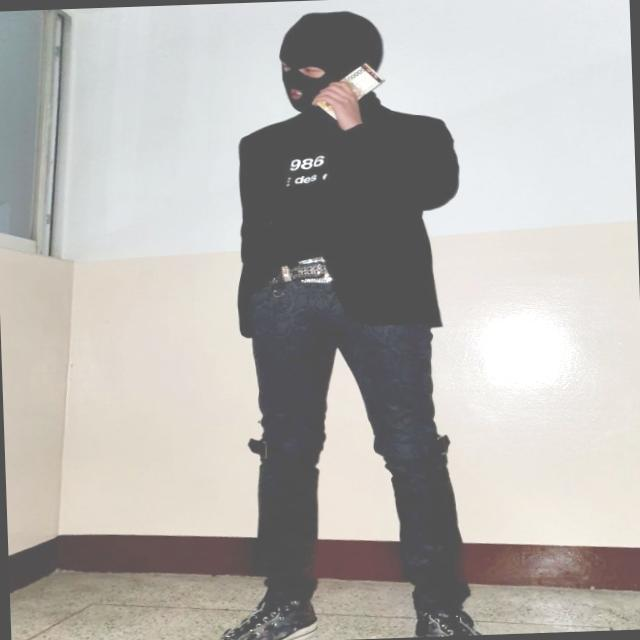blazer: (233, 94, 466, 337)
denimpants: (244, 320, 469, 610)
